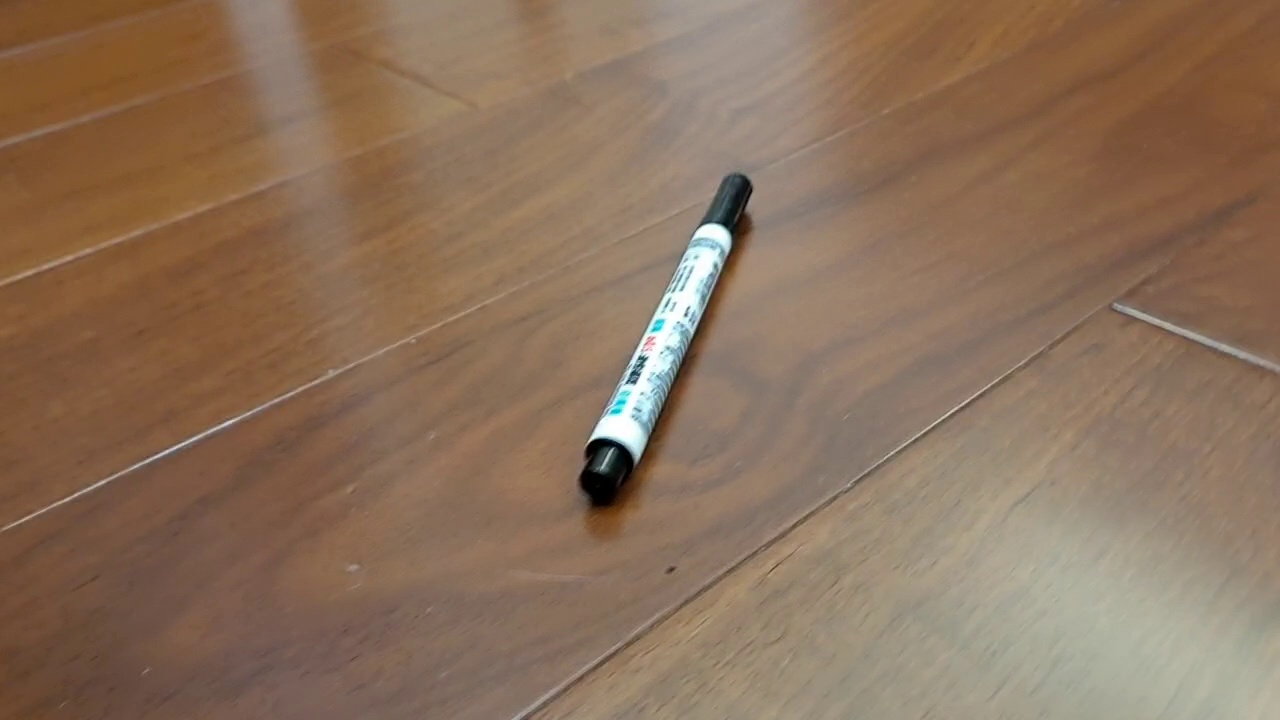pen: (578, 173, 754, 508)
